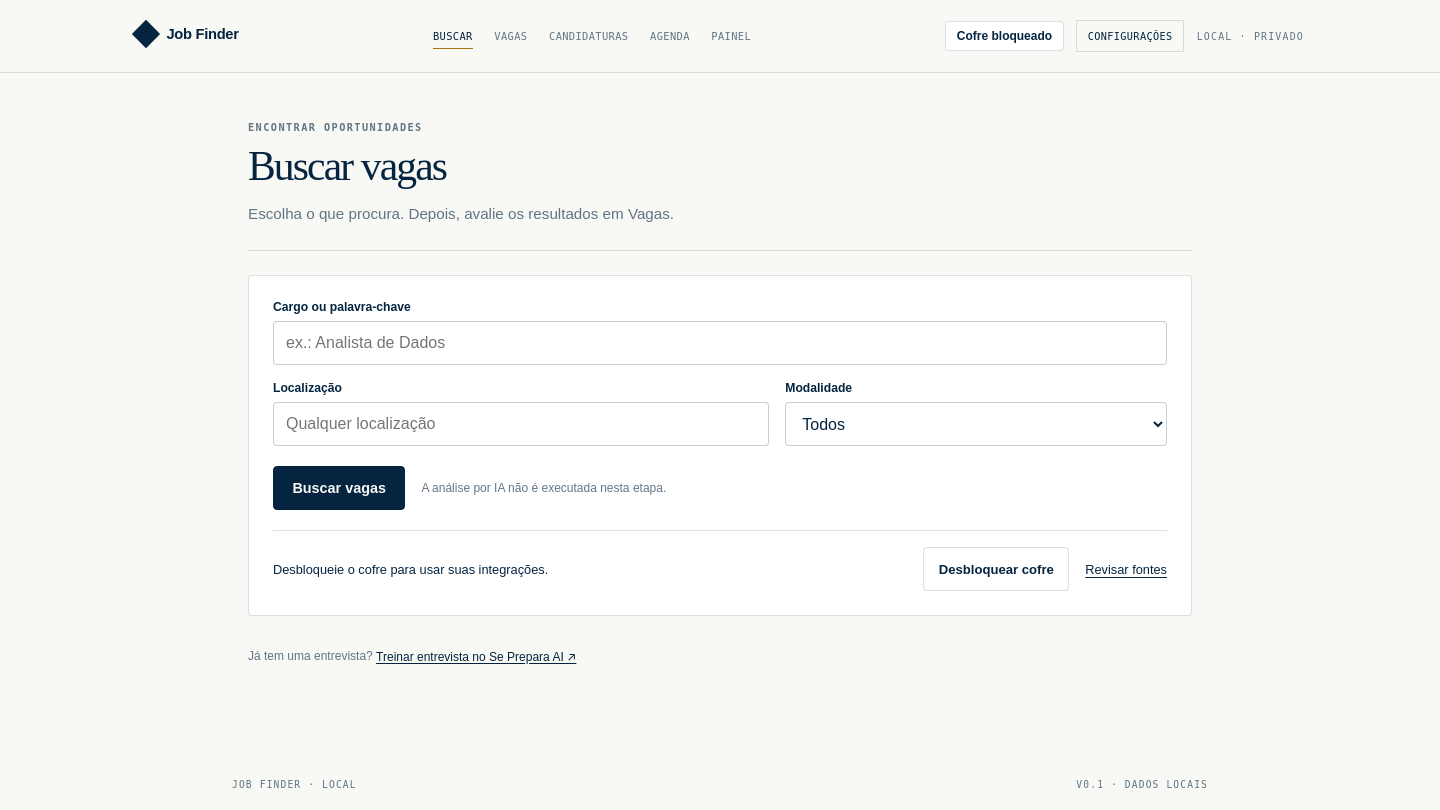
Test case: busca como uma tarefa única › sinaliza cofre bloqueado e abre o diálogo global sem perder os filtros
Expected: the text "Desbloqueie o cofre para usar suas integrações." is shown, [273,562,548,577]
In the field labelled "Cargo ou palavra-chave": (720,343) [273,321,1167,365], type "Dados"
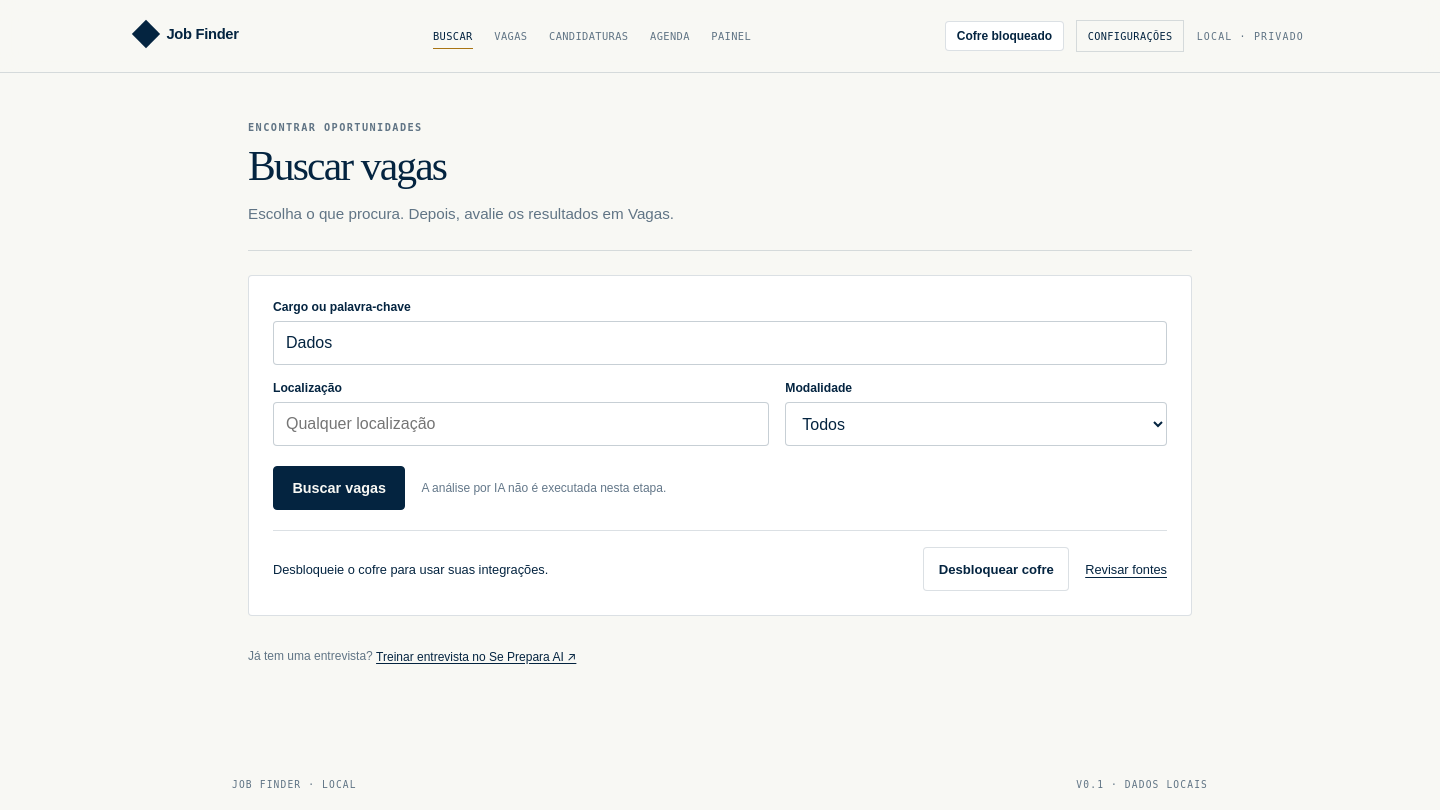
Click the button "Desbloquear cofre": (996,569) [923,547,1069,591]
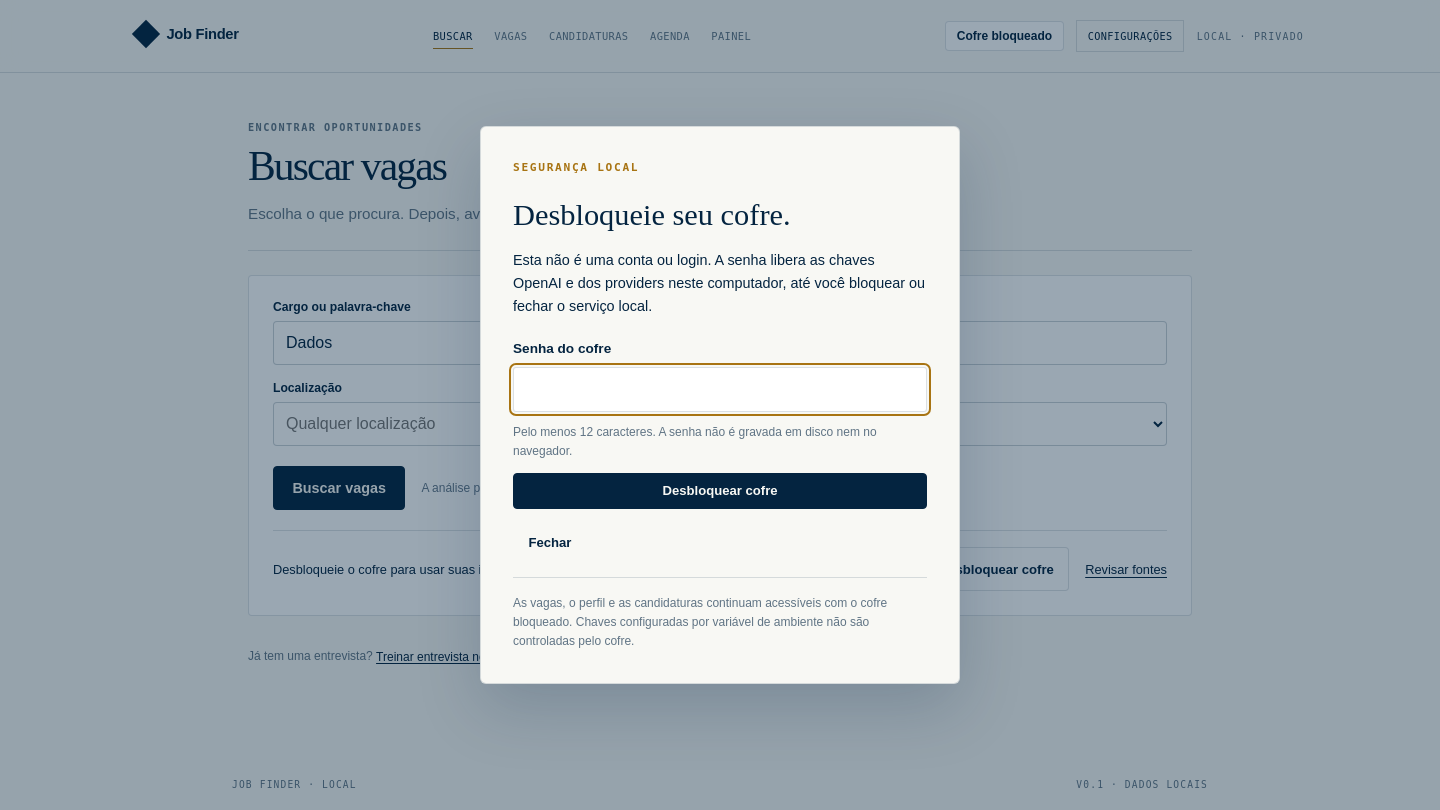
Expected: the dialog is shown, [480,126,960,684]
